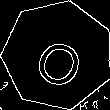O_NE: (27, 23, 89, 87)
